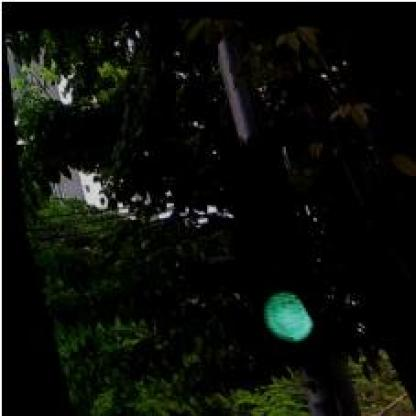green: (203, 131, 328, 360)
